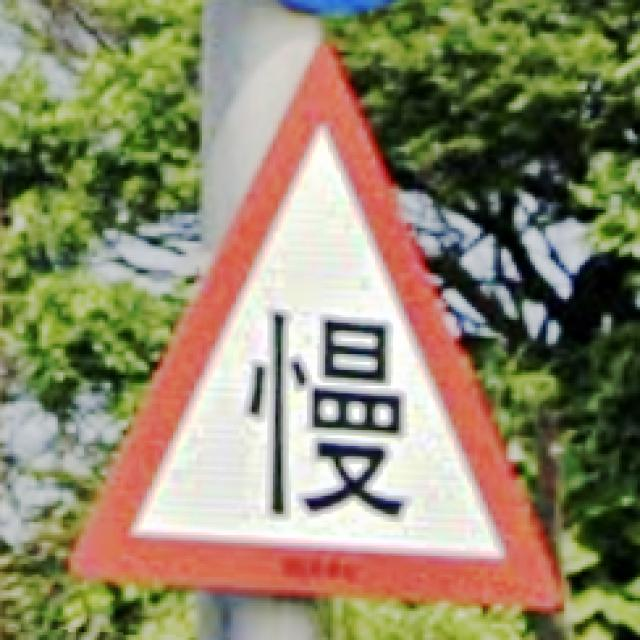slow: (71, 45, 566, 610)
